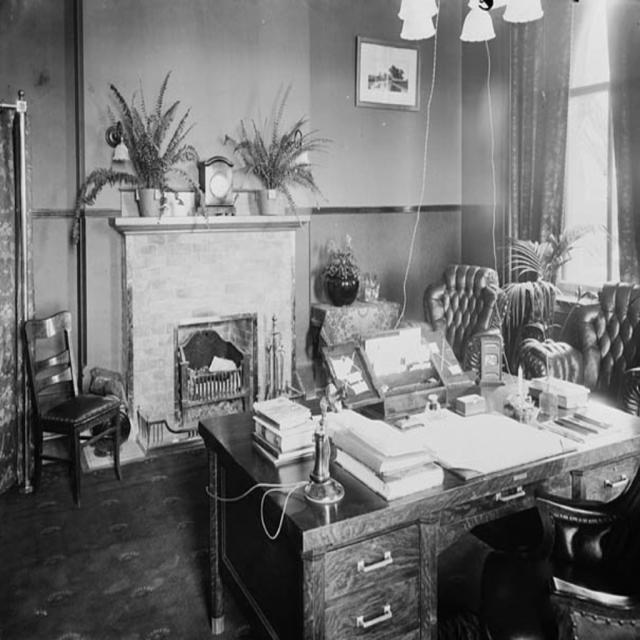chair: (22, 311, 129, 509), (532, 460, 640, 639)
desk: (201, 369, 639, 639)
